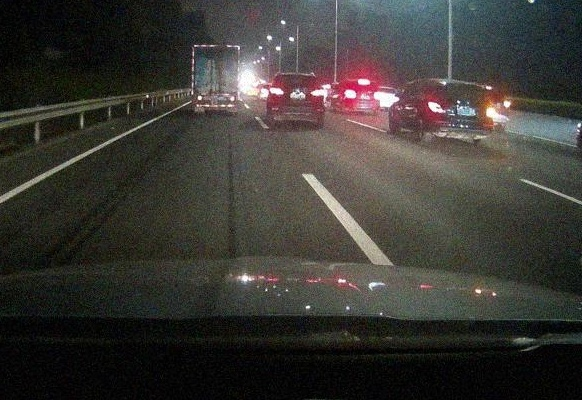L_light: (428, 101, 445, 114), (269, 87, 284, 95), (345, 91, 356, 98), (198, 96, 203, 100)
R_light: (310, 89, 323, 97), (485, 107, 493, 117), (374, 92, 379, 100), (231, 96, 236, 101)
T_light: (358, 81, 370, 85), (458, 85, 471, 88), (210, 47, 219, 50), (291, 76, 301, 78)
night-brake: (344, 80, 380, 115)
night-no: (191, 45, 240, 115), (267, 73, 325, 127)
night-right: (426, 81, 494, 146)
